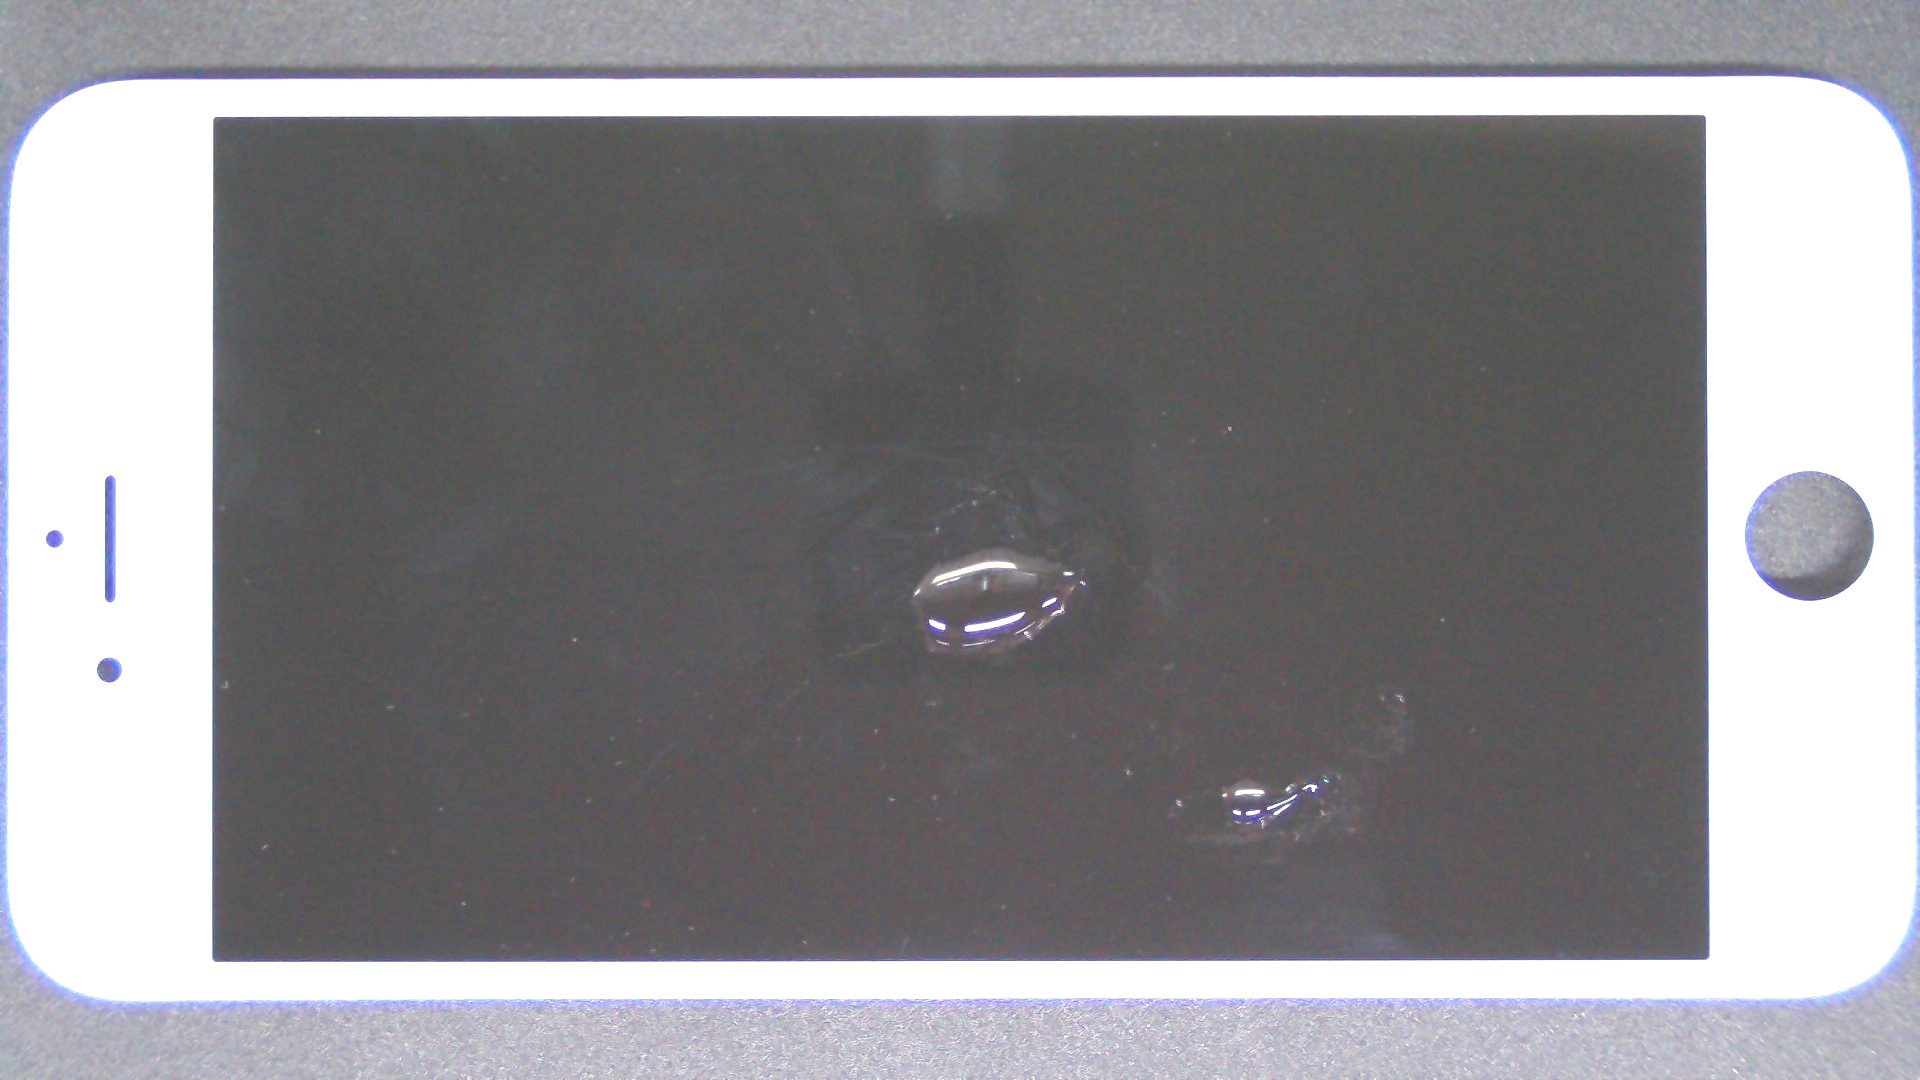oil: (665, 386, 1920, 1080), (497, 273, 1489, 822)
